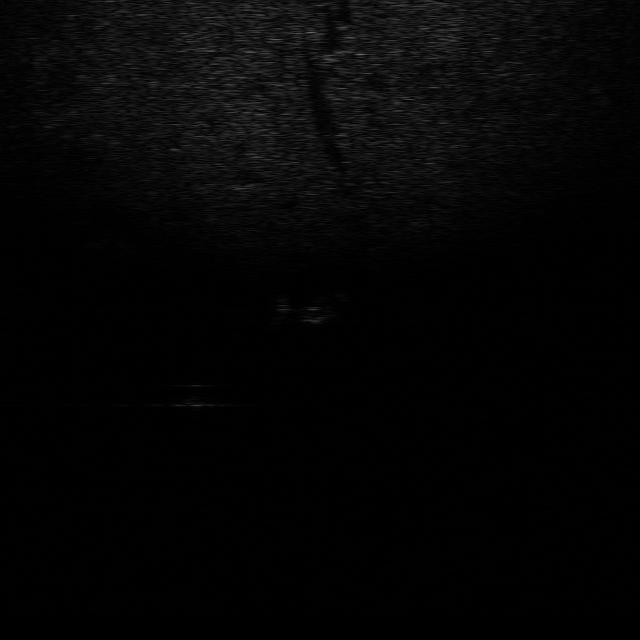ball: (170, 380, 226, 411)
human body: (270, 288, 351, 327)
